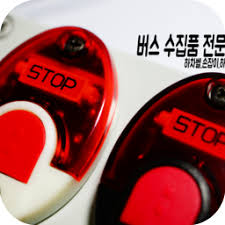bell: (1, 22, 119, 224)
